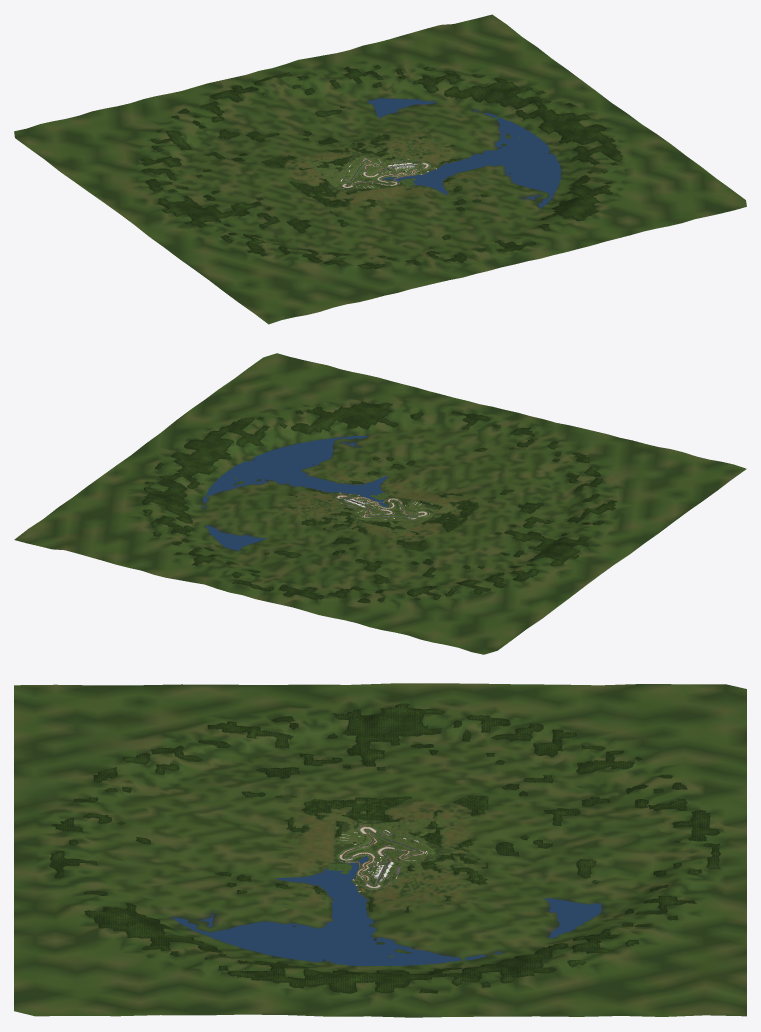
File: rwanda_official.glb
The picture shows the model from 3 angles, top to bottom: view 1: azimuth 30°, elevation 25°; view 2: azimuth 150°, elevation 25°; view 3: azimuth 270°, elevation 25°; orthographic projection. The views are drawn at different scales.
Parts seen in each view (by area): view 1: Terrain_Far, Env_ForestCanopy, Lake, Terrain; view 2: Terrain_Far, Env_ForestCanopy, Lake, Terrain; view 3: Terrain_Far, Env_ForestCanopy, Lake, Terrain, Ground_Verge.
Boxes of the visible parts, box(x1,y1,x2,y2) form: Terrain_Far: box(14, 14, 746, 324); Env_ForestCanopy: box(140, 65, 622, 269); Lake: box(368, 98, 560, 208); Terrain: box(344, 158, 425, 186); Terrain_Far: box(14, 353, 746, 654); Env_ForestCanopy: box(141, 401, 617, 602); Lake: box(202, 435, 388, 550); Terrain: box(339, 495, 422, 517); Terrain_Far: box(14, 683, 746, 1017); Env_ForestCanopy: box(49, 703, 720, 993); Lake: box(171, 856, 601, 965); Terrain: box(338, 830, 426, 885); Ground_Verge: box(338, 826, 424, 888).
Size of what is drawn, in the model's own units: 10500 by 213 by 9800.
57 materials, 38 textured.
